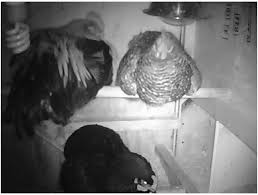chicken: (21, 20, 116, 114), (53, 118, 170, 192), (120, 34, 206, 106)
